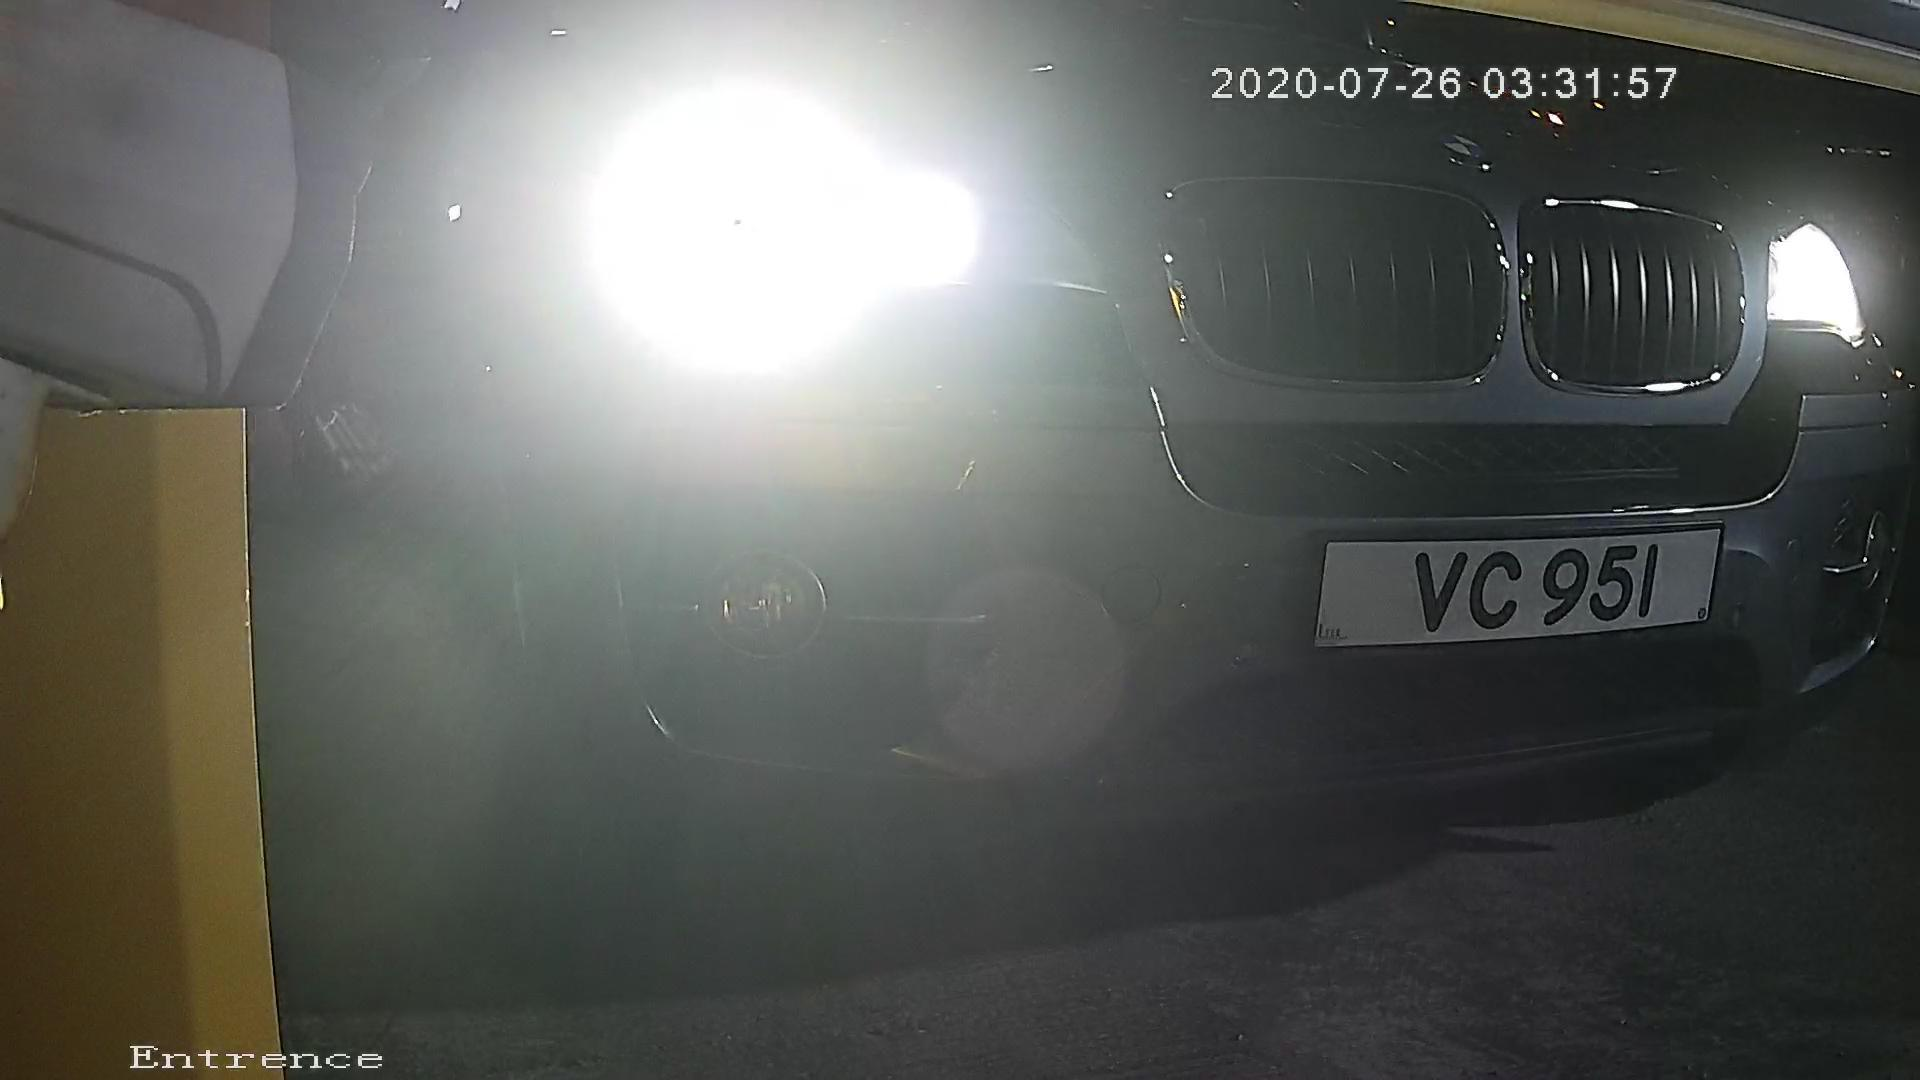privatecar: (236, 3, 1896, 887)
